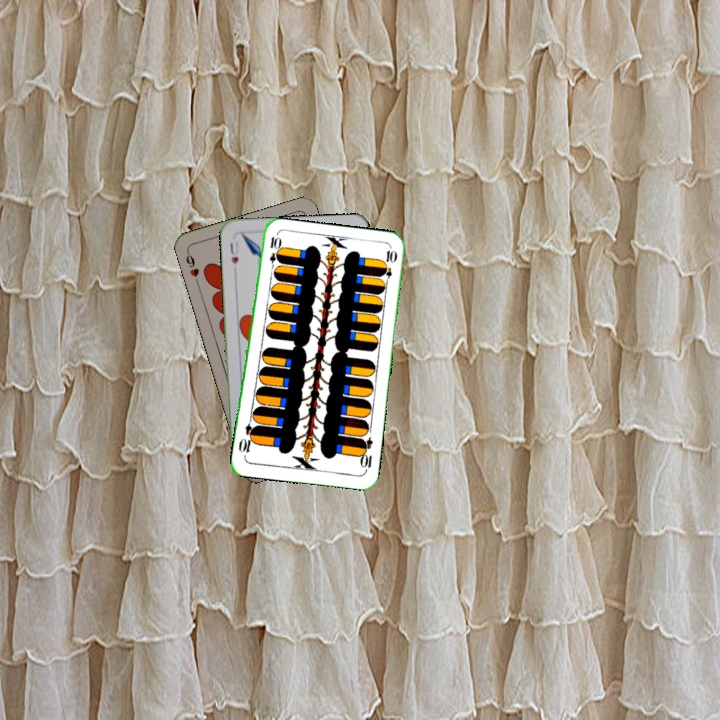E10: (356, 433, 375, 474), (265, 232, 280, 273)
H9: (182, 247, 202, 287)
HU: (226, 238, 241, 267)
